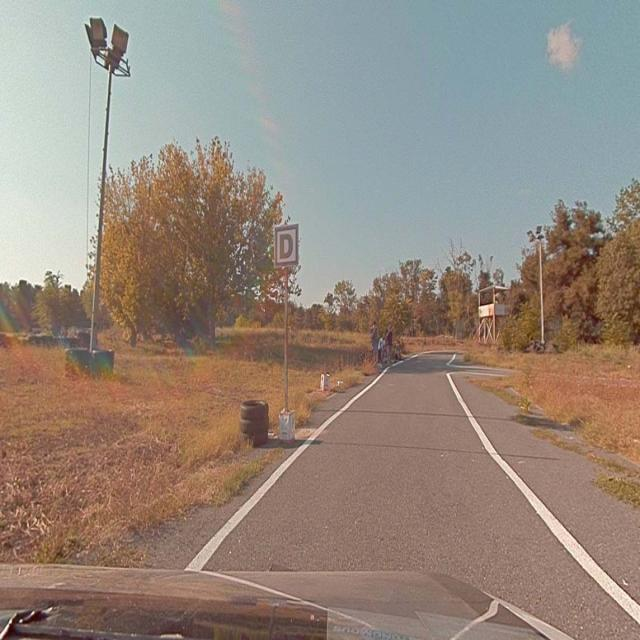durak: (274, 224, 299, 265)
